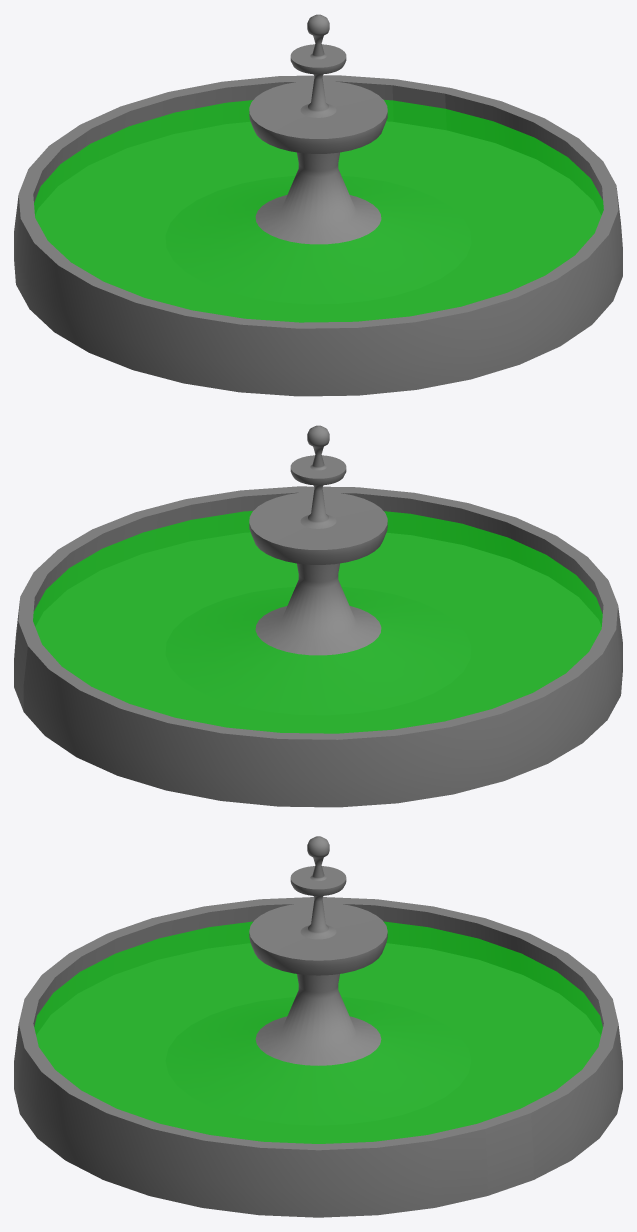
Rendered from fountain.fbx.
3 renders of one model, top to bottom at view 1: azimuth 30°, elevation 25°; view 2: azimuth 150°, elevation 25°; view 3: azimuth 270°, elevation 25°, orthographic.
Parts seen in each view (by area): view 1: Cylinder.001; view 2: Cylinder.001; view 3: Cylinder.001.
Boxes of the visible parts, left/top/right/bottom form: Cylinder.001: left=14, top=14, right=622, bottom=396; Cylinder.001: left=14, top=425, right=622, bottom=807; Cylinder.001: left=14, top=836, right=622, bottom=1217.
Bounding box in the file's own units: 233 × 106 × 233.
